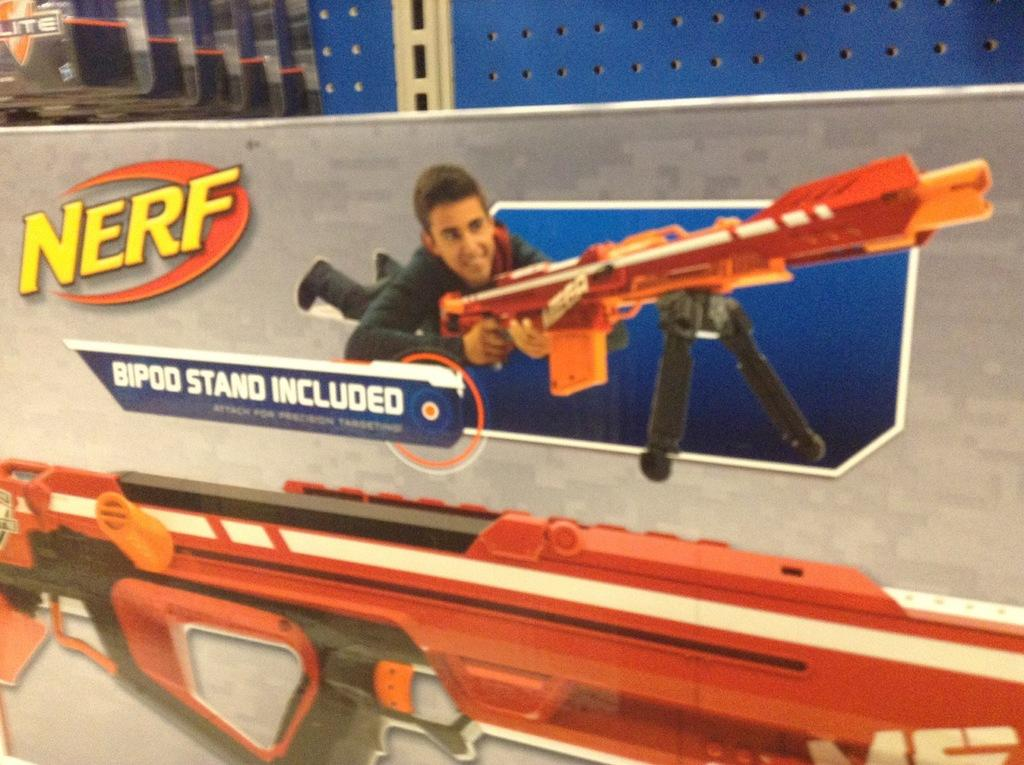Rifle: (317, 144, 987, 487)
